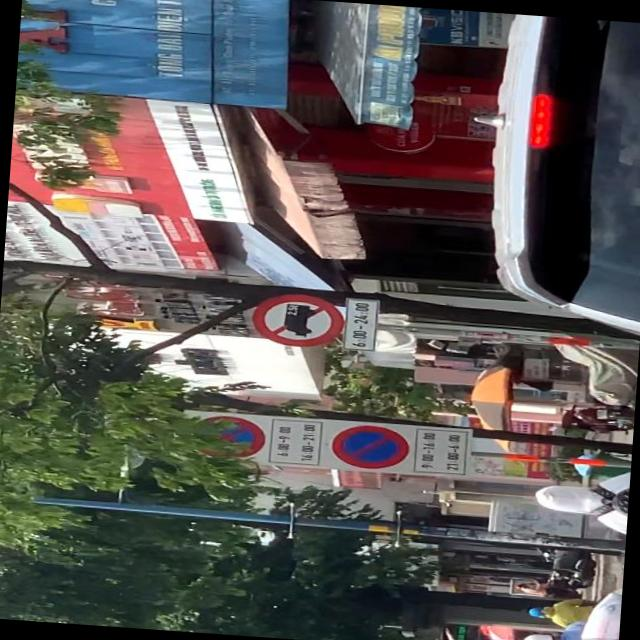P-131a: (328, 422, 408, 468)
